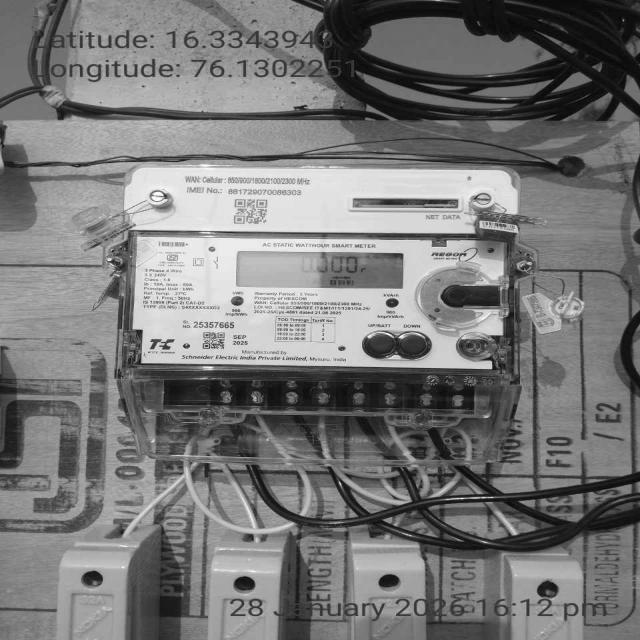meter: (127, 168, 520, 369)
